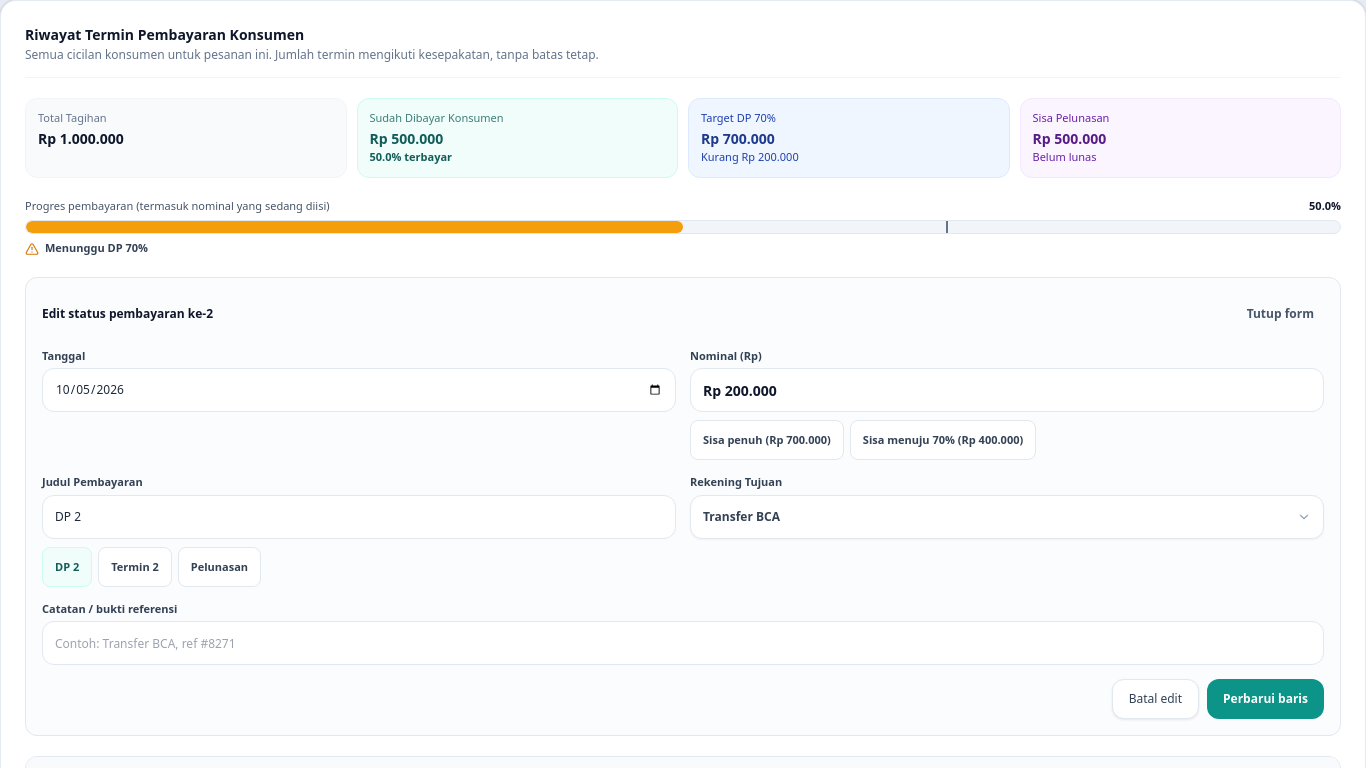
Test: PaymentLedgerPanel: edit dari tabel › membuka form edit target sekali dan tidak membukanya lagi setelah baris diperbarui
Expected: the heading "Edit status pembayaran ke-2" is shown, 42,306 -> 213,322
Click the button "Perbarui baris".
click(1266, 699)  # box 1207,679 -> 1324,719
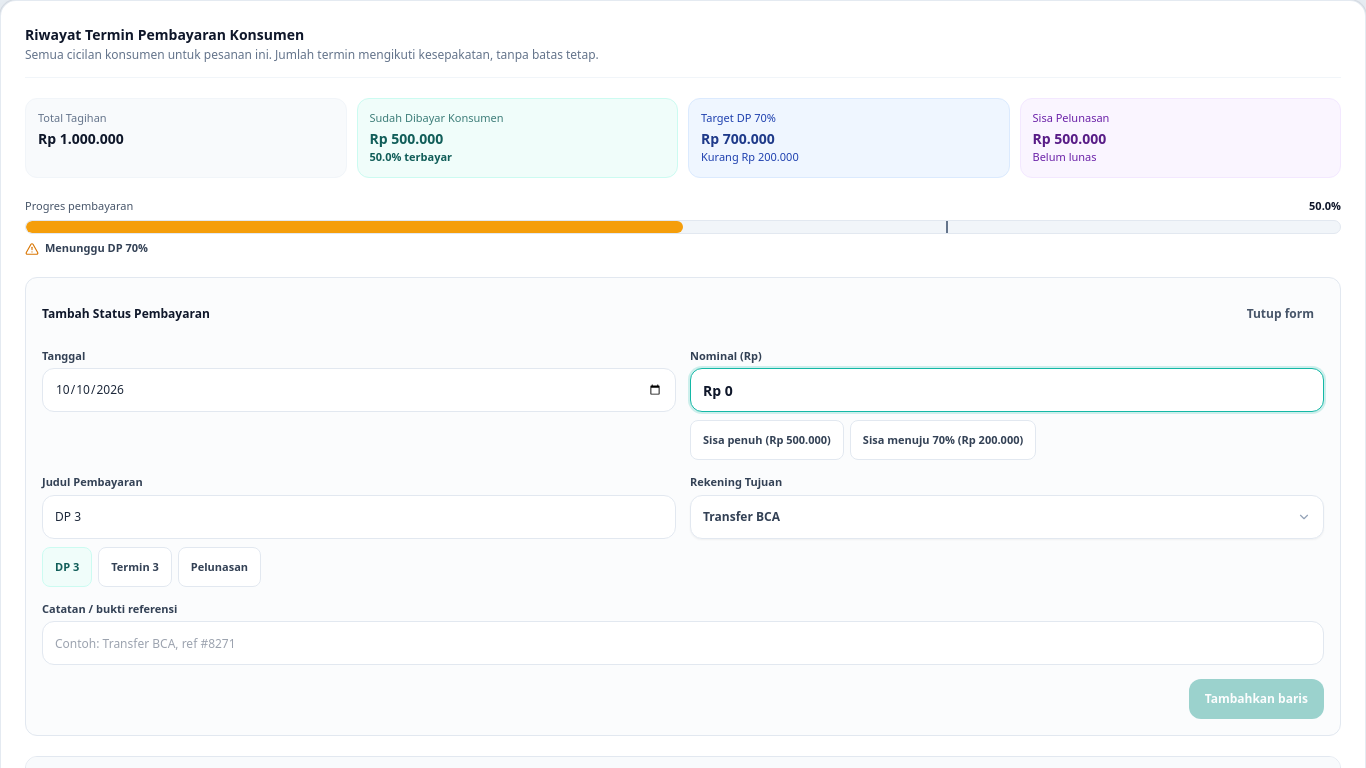
Expected: the heading "Edit status pembayaran ke-2" is gone
Expected: the heading "Tambah Status Pembayaran" is shown, 42,306 -> 210,322
